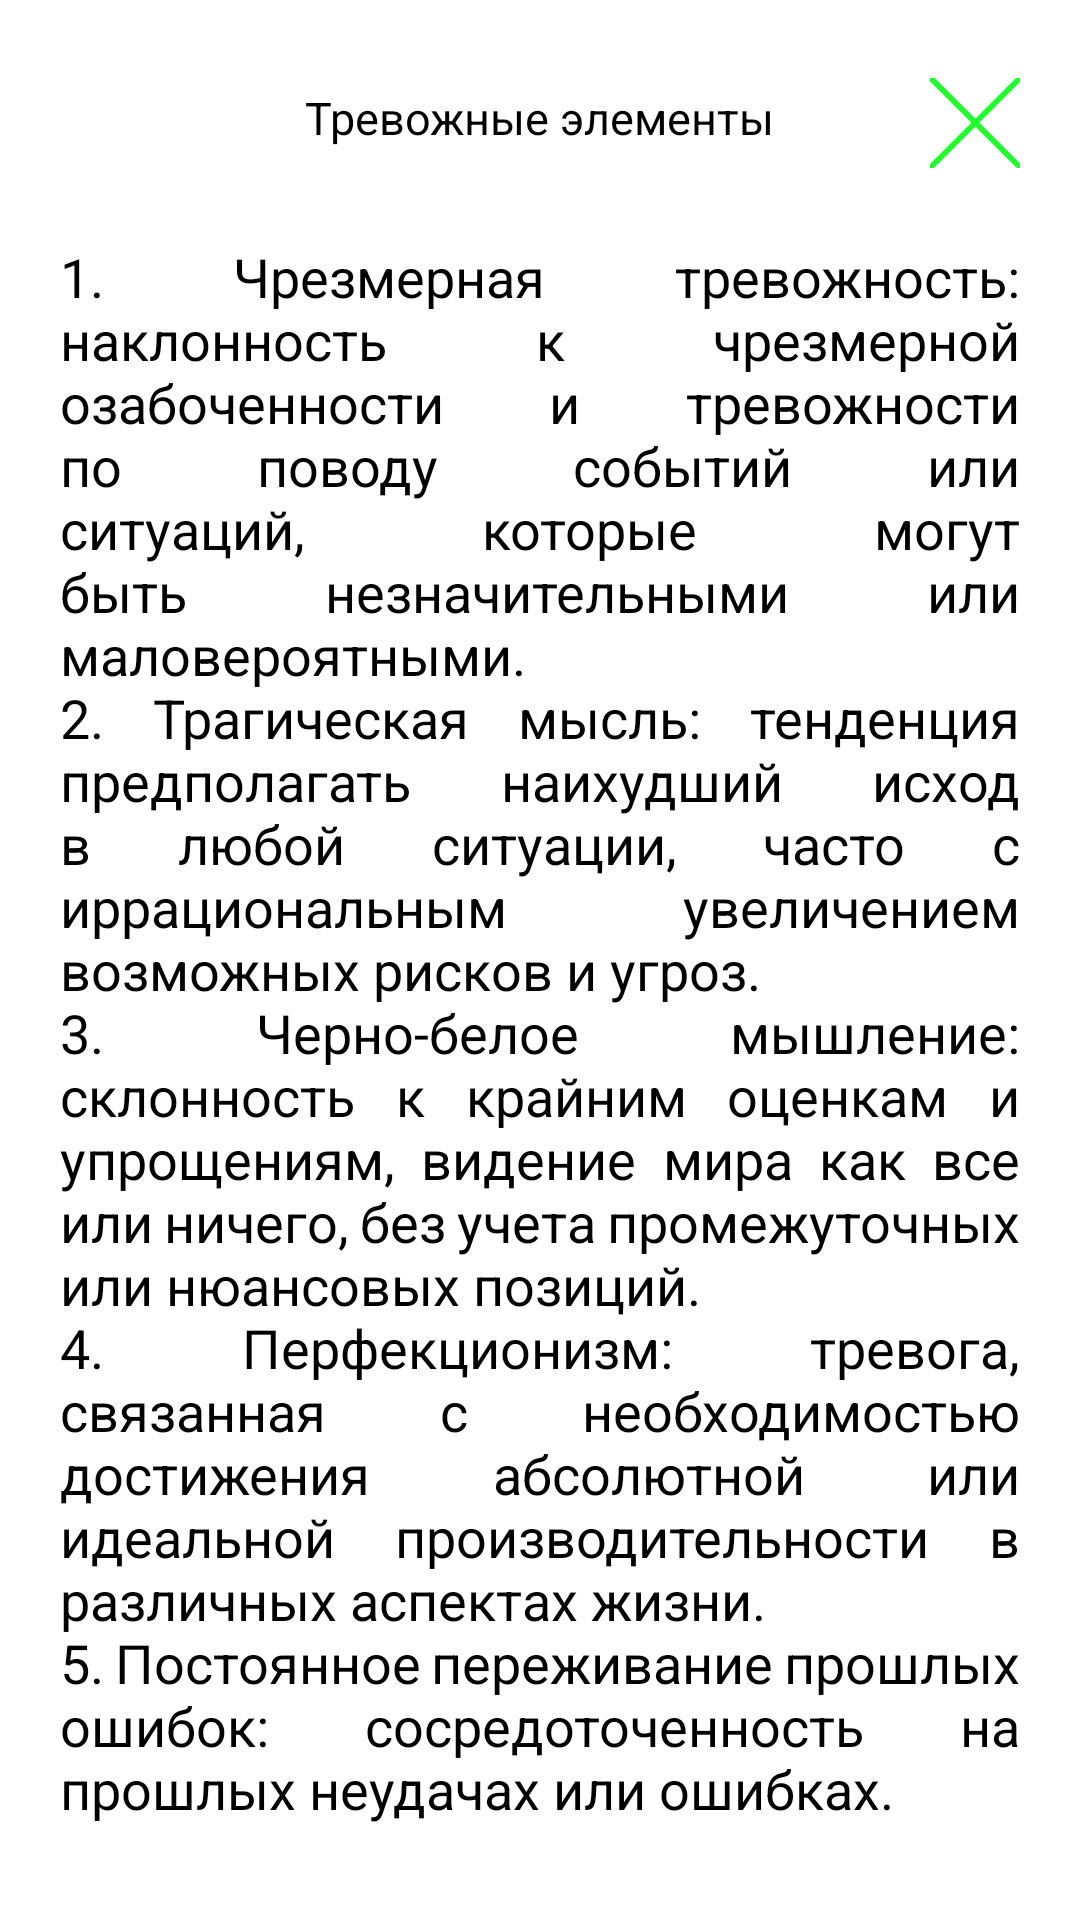

Named icons in this screenshot (1080px x 1920px) and their bounding boxes, {"left": x1, "top": y1, "right": x2, "bottom": y2}:
close: {"left": 930, "top": 78, "right": 1020, "bottom": 168}
